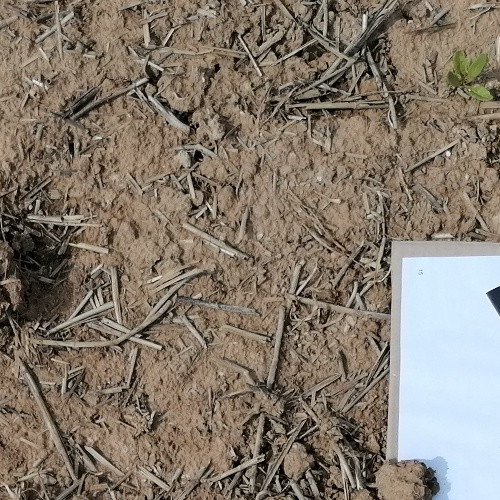beet: (446, 50, 494, 101)
